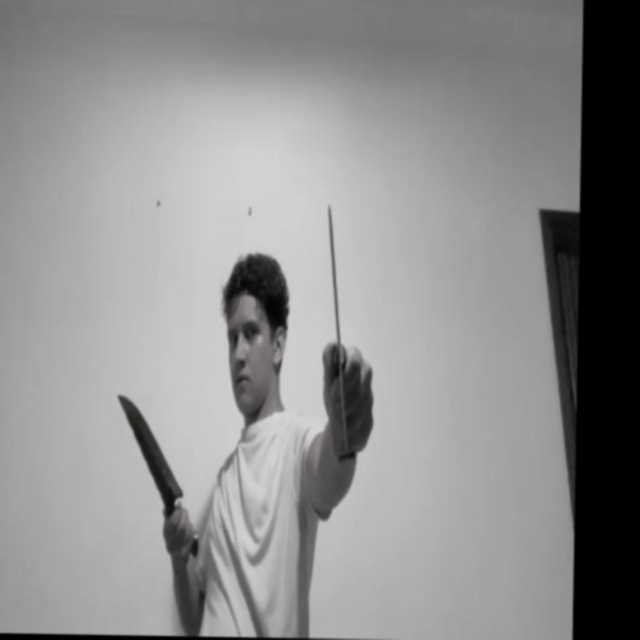Sharp-Object: (322, 202, 354, 454), (116, 391, 187, 502)
